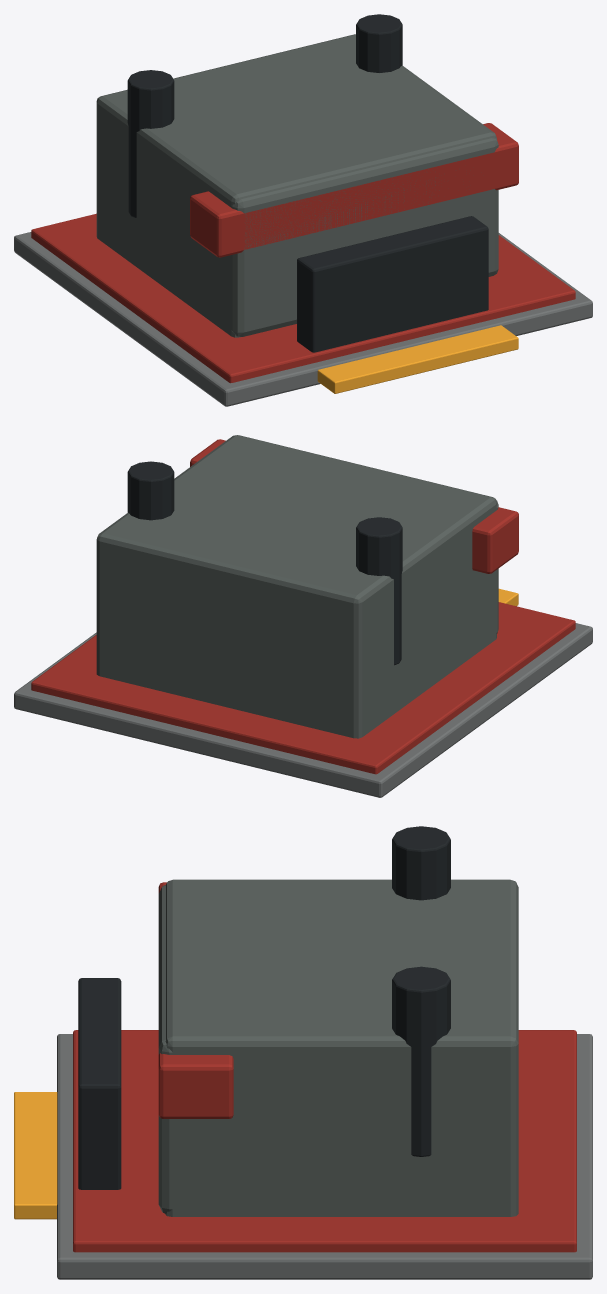
The model's file is SM_Soviet_SU_WarFactory.fbx.
The picture shows the model from 3 angles, top to bottom: view 1: azimuth 30°, elevation 25°; view 2: azimuth 150°, elevation 25°; view 3: azimuth 270°, elevation 25°; orthographic projection. The views are drawn at different scales.
Parts seen in each view (by area): view 1: SM_Soviet_SU_WarFactory_MainMass, SM_Soviet_SU_WarFactory_Hangar, SM_Soviet_SU_WarFactory_AssemblyDoor, SM_Soviet_SU_WarFactory_FoundationTrim, SM_Soviet_SU_WarFactory_ArmourBrow, SM_Soviet_SU_WarFactory, SM_Soviet_SU_WarFactory_ExitRamp, SM_Soviet_SU_WarFactory_Exhaust_-1, SM_Soviet_SU_WarFactory_Exhaust_+1; view 2: SM_Soviet_SU_WarFactory_MainMass, SM_Soviet_SU_WarFactory_FoundationTrim, SM_Soviet_SU_WarFactory, SM_Soviet_SU_WarFactory_Exhaust_-1, SM_Soviet_SU_WarFactory_ArmourBrow, SM_Soviet_SU_WarFactory_Exhaust_+1; view 3: SM_Soviet_SU_WarFactory_MainMass, SM_Soviet_SU_WarFactory_Hangar, SM_Soviet_SU_WarFactory_FoundationTrim, SM_Soviet_SU_WarFactory, SM_Soviet_SU_WarFactory_AssemblyDoor, SM_Soviet_SU_WarFactory_Exhaust_+1, SM_Soviet_SU_WarFactory_ExitRamp, SM_Soviet_SU_WarFactory_ArmourBrow, SM_Soviet_SU_WarFactory_Exhaust_-1.
Part boxes in pixels (x1,y1,x2,y2): SM_Soviet_SU_WarFactory_MainMass: (96, 34, 496, 337); SM_Soviet_SU_WarFactory_Hangar: (109, 138, 498, 336); SM_Soviet_SU_WarFactory_AssemblyDoor: (297, 216, 488, 352); SM_Soviet_SU_WarFactory_FoundationTrim: (31, 213, 575, 383); SM_Soviet_SU_WarFactory_ArmourBrow: (190, 123, 518, 257); SM_Soviet_SU_WarFactory: (14, 232, 592, 406); SM_Soviet_SU_WarFactory_ExitRamp: (317, 325, 518, 393); SM_Soviet_SU_WarFactory_Exhaust_-1: (127, 70, 174, 217); SM_Soviet_SU_WarFactory_Exhaust_+1: (356, 14, 402, 72); SM_Soviet_SU_WarFactory_MainMass: (96, 435, 496, 738); SM_Soviet_SU_WarFactory_FoundationTrim: (31, 602, 575, 774); SM_Soviet_SU_WarFactory: (14, 623, 592, 797); SM_Soviet_SU_WarFactory_Exhaust_-1: (356, 517, 402, 665); SM_Soviet_SU_WarFactory_ArmourBrow: (190, 439, 518, 573); SM_Soviet_SU_WarFactory_Exhaust_+1: (127, 461, 174, 520); SM_Soviet_SU_WarFactory_MainMass: (165, 879, 518, 1216); SM_Soviet_SU_WarFactory_Hangar: (158, 885, 480, 1213); SM_Soviet_SU_WarFactory_FoundationTrim: (73, 1030, 576, 1252); SM_Soviet_SU_WarFactory: (57, 1034, 592, 1279); SM_Soviet_SU_WarFactory_AssemblyDoor: (78, 978, 121, 1189); SM_Soviet_SU_WarFactory_Exhaust_+1: (392, 966, 450, 1156); SM_Soviet_SU_WarFactory_ExitRamp: (14, 1092, 57, 1219); SM_Soviet_SU_WarFactory_ArmourBrow: (158, 882, 233, 1118); SM_Soviet_SU_WarFactory_Exhaust_-1: (392, 826, 450, 900).
Size of what is drawn, in the model's own units: 800 by 864 by 428.
